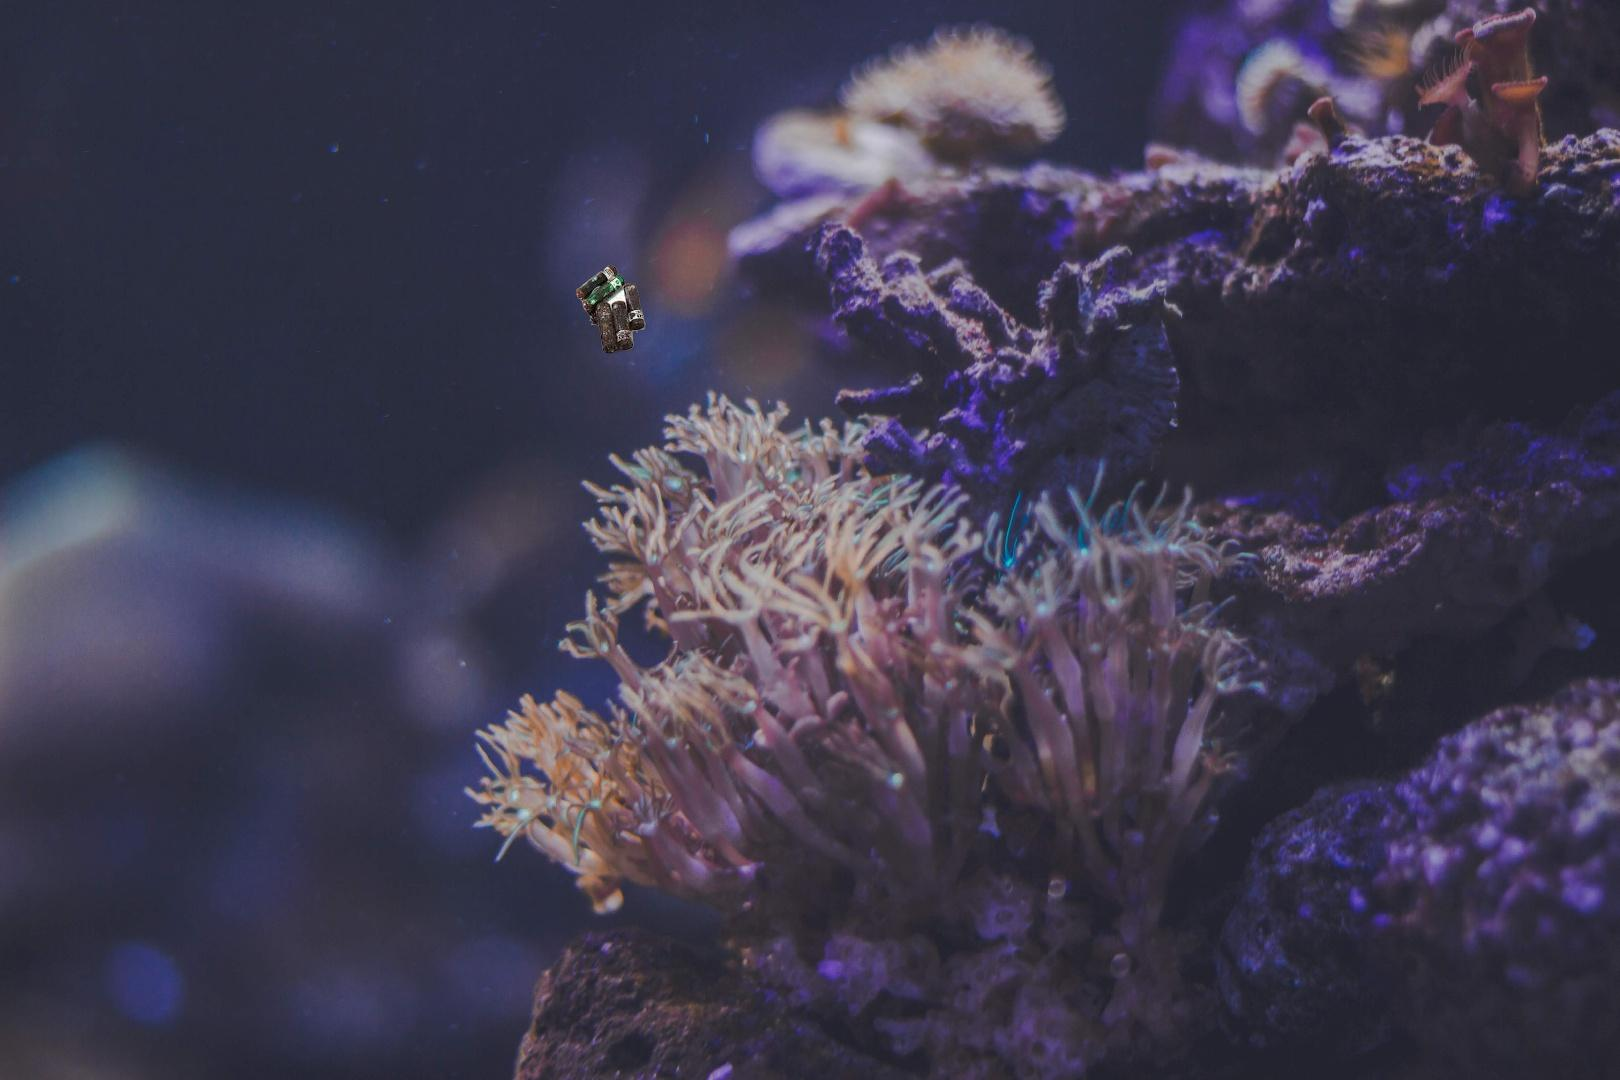battery: (573, 262, 648, 356)
